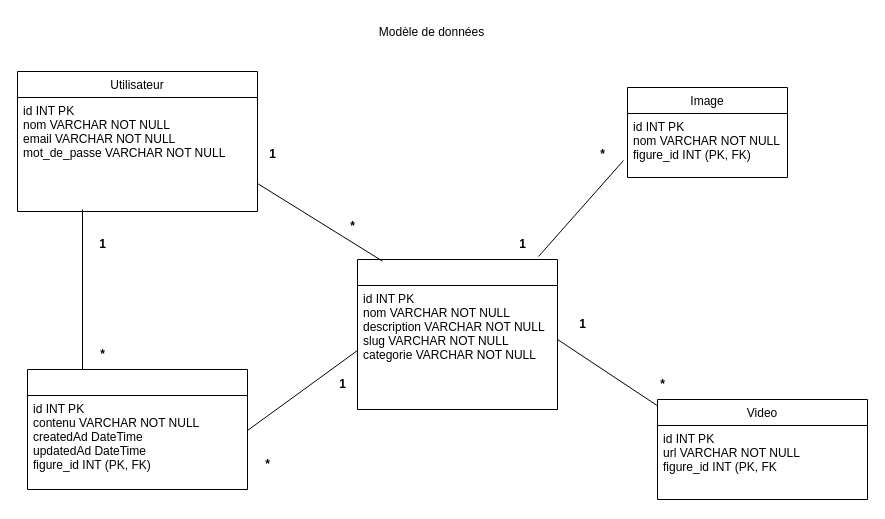
The diagram is 885 pixels wide and 519 high, and some of its shapes have lost their labels. Here are the shapes that lost their labels. From the top down, the box of each, then its label:
(356, 258, 558, 410): Figure
(26, 368, 248, 490): Commentaire
